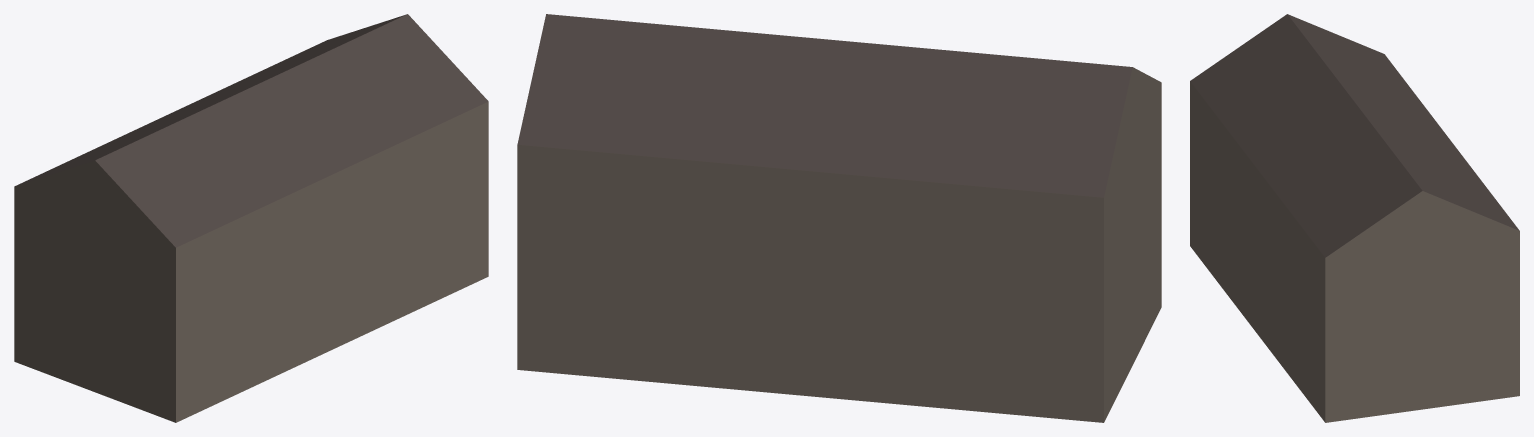
3 views of the same model, side by side, from view 1: azimuth 30°, elevation 25°; view 2: azimuth 150°, elevation 25°; view 3: azimuth 270°, elevation 25° (orthographic). The views are drawn at different scales.
Parts seen in each view (by area): view 1: HP-w1076065852; view 2: HP-w1076065852; view 3: HP-w1076065852.
Part boxes in pixels (x1=…): HP-w1076065852: x1=14, y1=14, x2=488, y2=422; HP-w1076065852: x1=517, y1=14, x2=1161, y2=422; HP-w1076065852: x1=1190, y1=14, x2=1519, y2=422.
Bounding box in the file's own units: 15.88 × 7.95 × 10.87.
